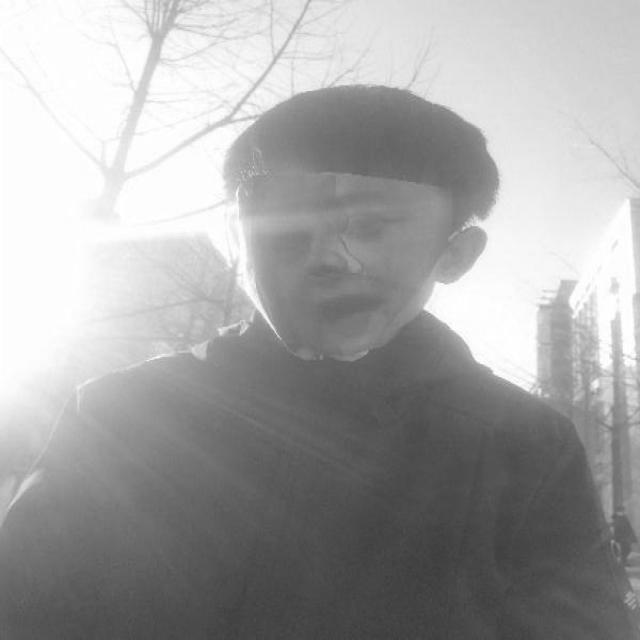fake: (260, 178, 430, 348)
